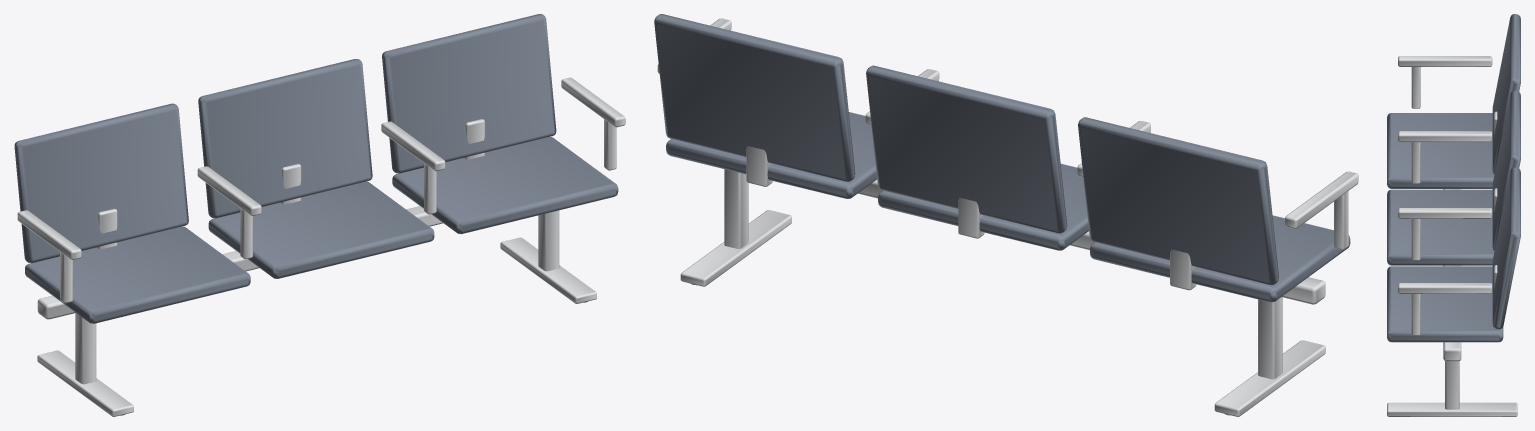
The model's file is banco_espera.glb.
The picture shows the model from 3 angles, left to right: view 1: azimuth 30°, elevation 25°; view 2: azimuth 150°, elevation 25°; view 3: azimuth 270°, elevation 25°; orthographic projection. The views are drawn at different scales.
Visible parts, largest first — view 1: respaldo1, respaldo2, respaldo0, asiento1, asiento2, asiento0, pie0.63, pie-0.63, pata-0.63, pata0.63, viga, brazo0.25 (+7 smaller); view 2: respaldo1, respaldo2, respaldo0, asiento0, asiento1, asiento2, pie0.63, pie-0.63, pata-0.63, pata0.63, brazo-0.74, viga (+4 smaller); view 3: asiento2, asiento1, asiento0, respaldo2, respaldo1, respaldo0, pie0.63, brazo0.25, brazo-0.25, brazo-0.74, brazo0.74, pata0.63 (+5 smaller).
Part boxes in pixels (x1,y1,x2,y2): respaldo1: [198, 59, 372, 218]; respaldo2: [382, 14, 556, 173]; respaldo0: [14, 103, 188, 263]; asiento1: [208, 181, 434, 278]; asiento2: [392, 137, 618, 234]; asiento0: [25, 226, 250, 323]; pie0.63: [500, 237, 596, 303]; pie-0.63: [37, 350, 133, 416]; pata-0.63: [75, 313, 96, 384]; pata0.63: [538, 210, 559, 271]; viga: [37, 206, 442, 319]; brazo0.25: [381, 121, 445, 171]; respaldo1: [866, 65, 1067, 233]; respaldo2: [654, 14, 855, 181]; respaldo0: [1078, 117, 1278, 285]; asiento0: [1090, 215, 1350, 302]; asiento1: [878, 163, 1088, 250]; asiento2: [666, 112, 876, 198]; pie0.63: [680, 210, 791, 286]; pie-0.63: [1214, 340, 1325, 416]; pata-0.63: [1258, 297, 1282, 379]; pata0.63: [724, 169, 748, 248]; brazo-0.74: [1284, 171, 1358, 228]; viga: [858, 179, 1325, 304]; asiento2: [1387, 266, 1503, 342]; asiento1: [1387, 189, 1494, 265]; asiento0: [1387, 113, 1494, 188]; respaldo2: [1492, 167, 1520, 329]; respaldo1: [1492, 90, 1520, 251]; respaldo0: [1492, 14, 1520, 174]; pie0.63: [1387, 402, 1517, 416]; brazo0.25: [1398, 207, 1492, 218]; brazo-0.25: [1398, 131, 1492, 142]; brazo-0.74: [1398, 56, 1492, 66]; brazo0.74: [1398, 283, 1492, 293]; pata0.63: [1445, 361, 1459, 409].
Bounding box in the file's own units: 1.51 × 0.5902 × 0.3687.
